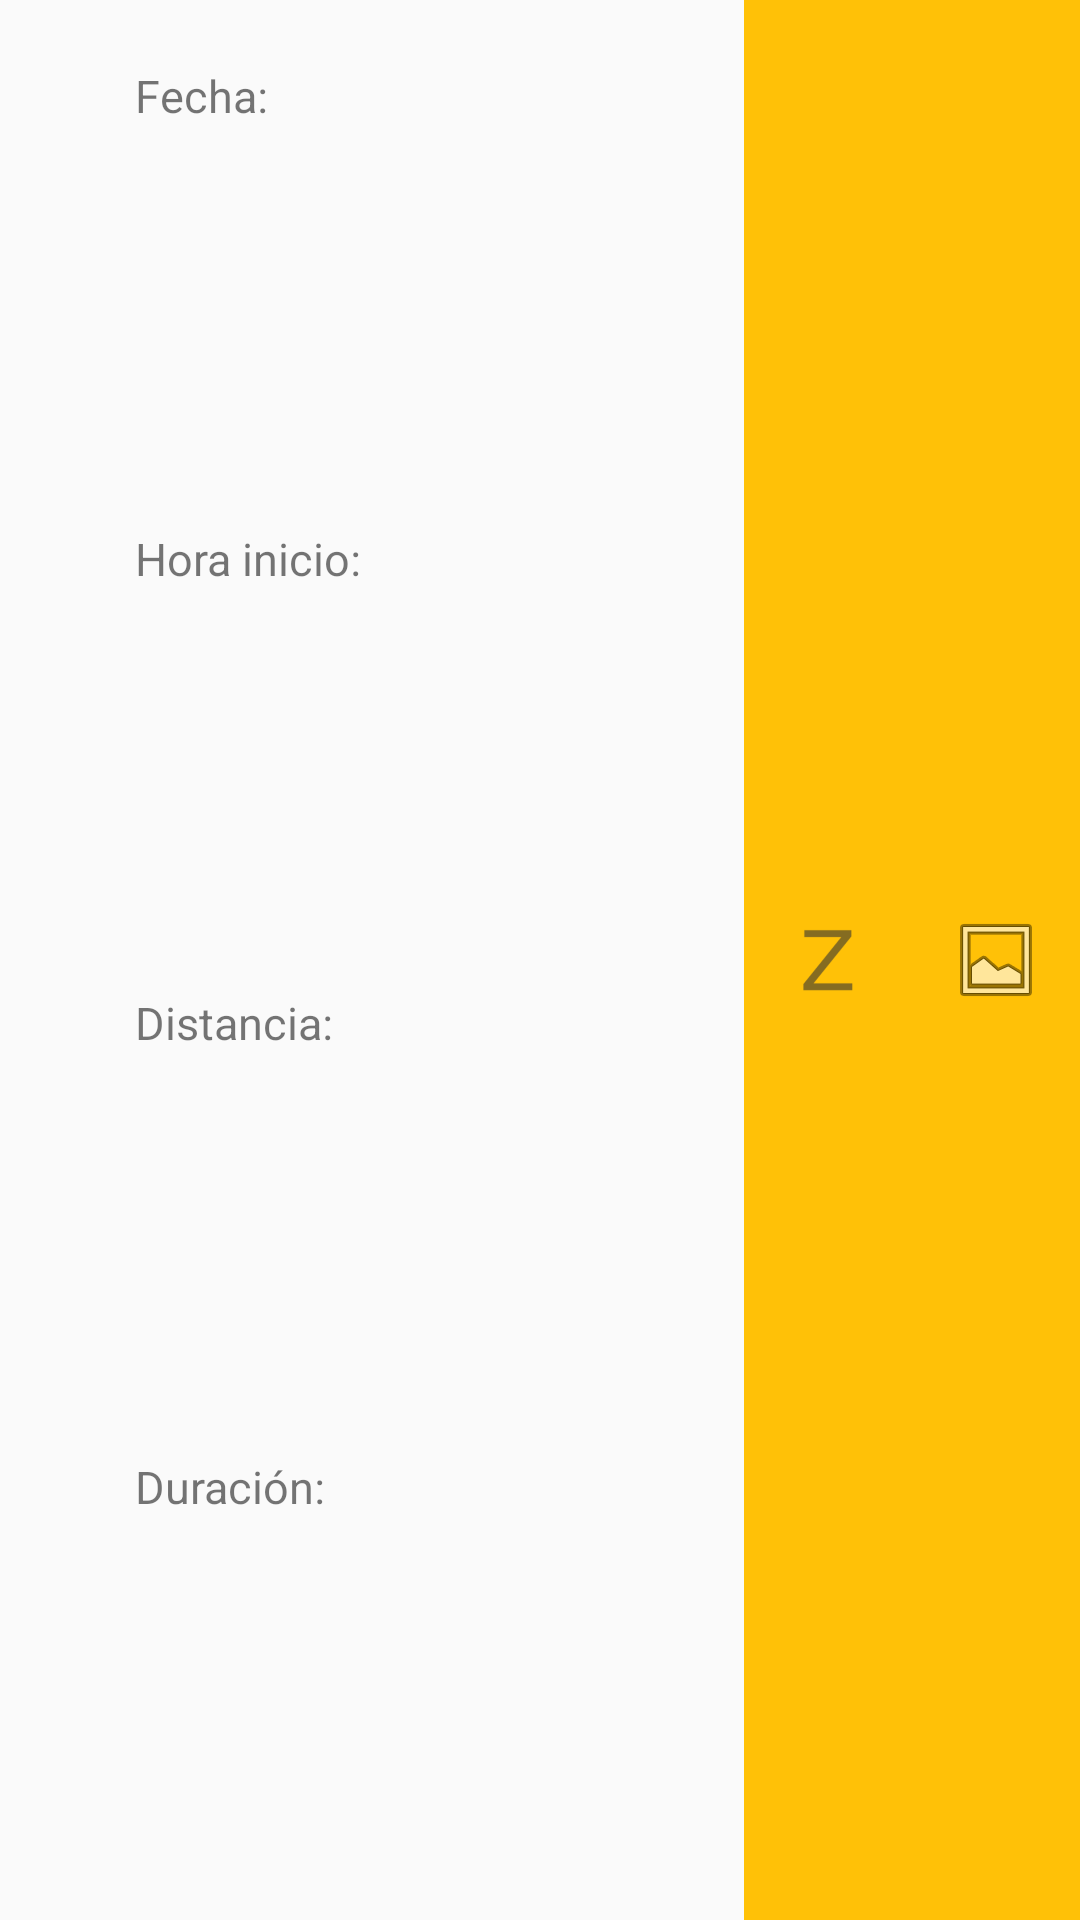

Where icons sit on this 1080 × 1920 app screen, as (x1, y1, x2, y2):
gallery: (960, 924, 1032, 996)
